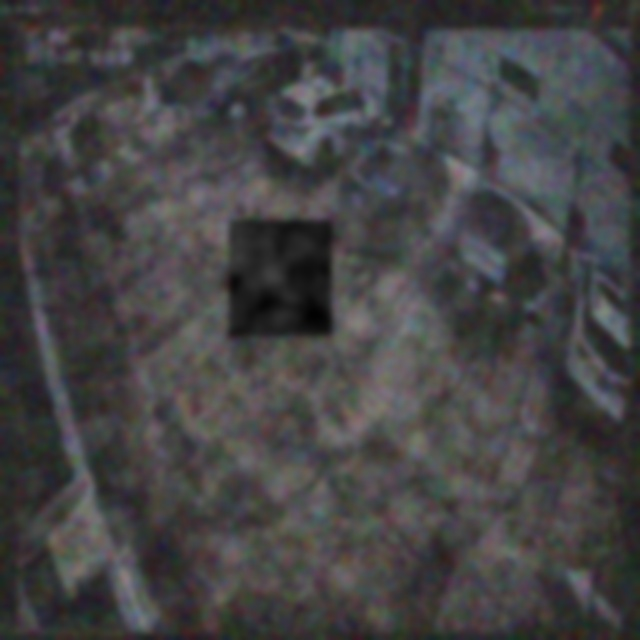Car: (444, 185, 548, 333), (339, 124, 449, 248), (269, 81, 383, 176)
